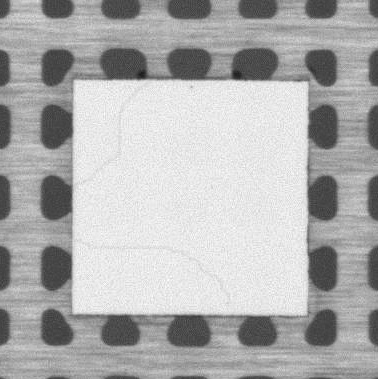DIE_CRACK: (74, 238, 234, 303), (79, 83, 145, 193)
